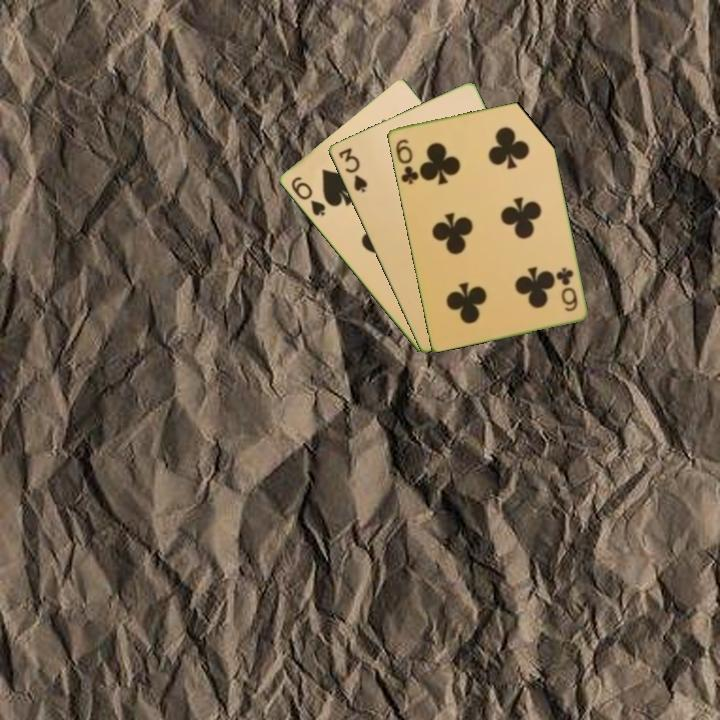3s: (335, 144, 370, 195)
6c: (392, 135, 421, 187), (553, 264, 580, 314)
6s: (287, 173, 328, 219)
